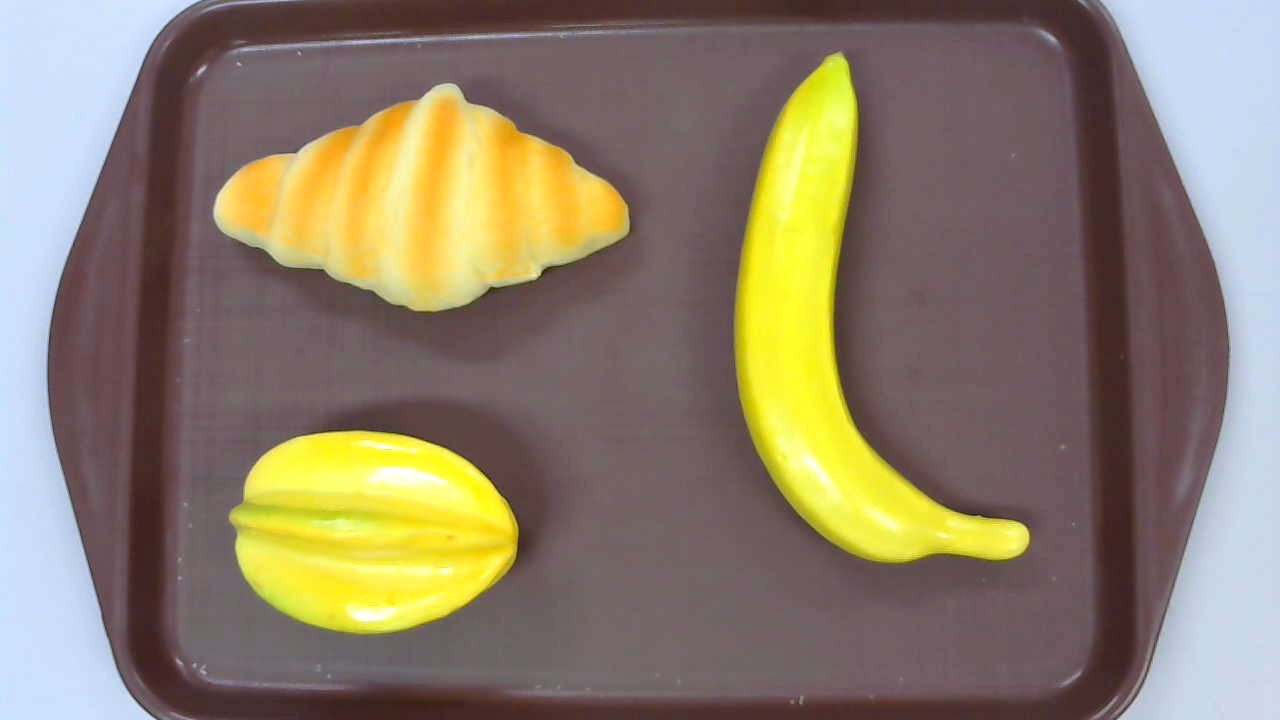banana: (732, 50, 1031, 563)
croissant: (210, 84, 630, 313)
star fruit: (229, 427, 520, 635)
